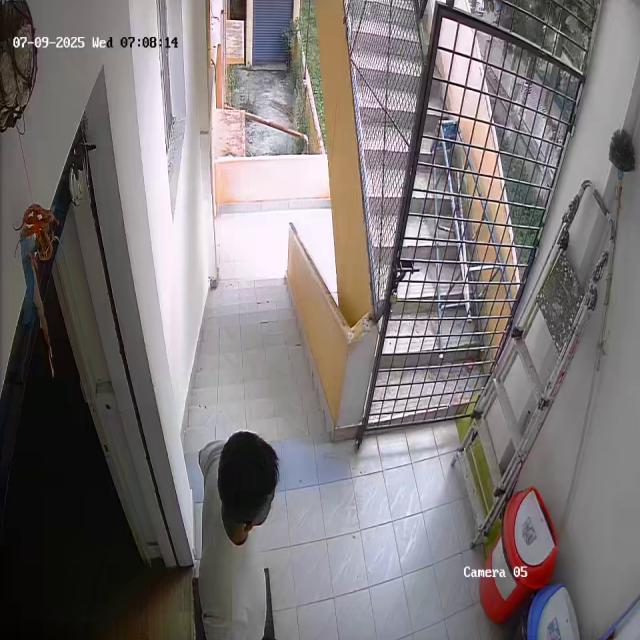person: (186, 428, 280, 640)
